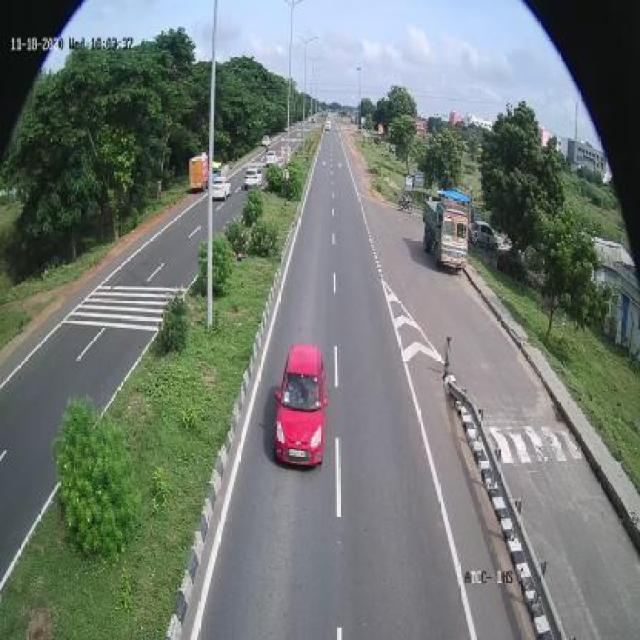car: (277, 336, 329, 472)
